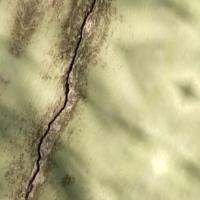crack: (11, 1, 117, 199)
